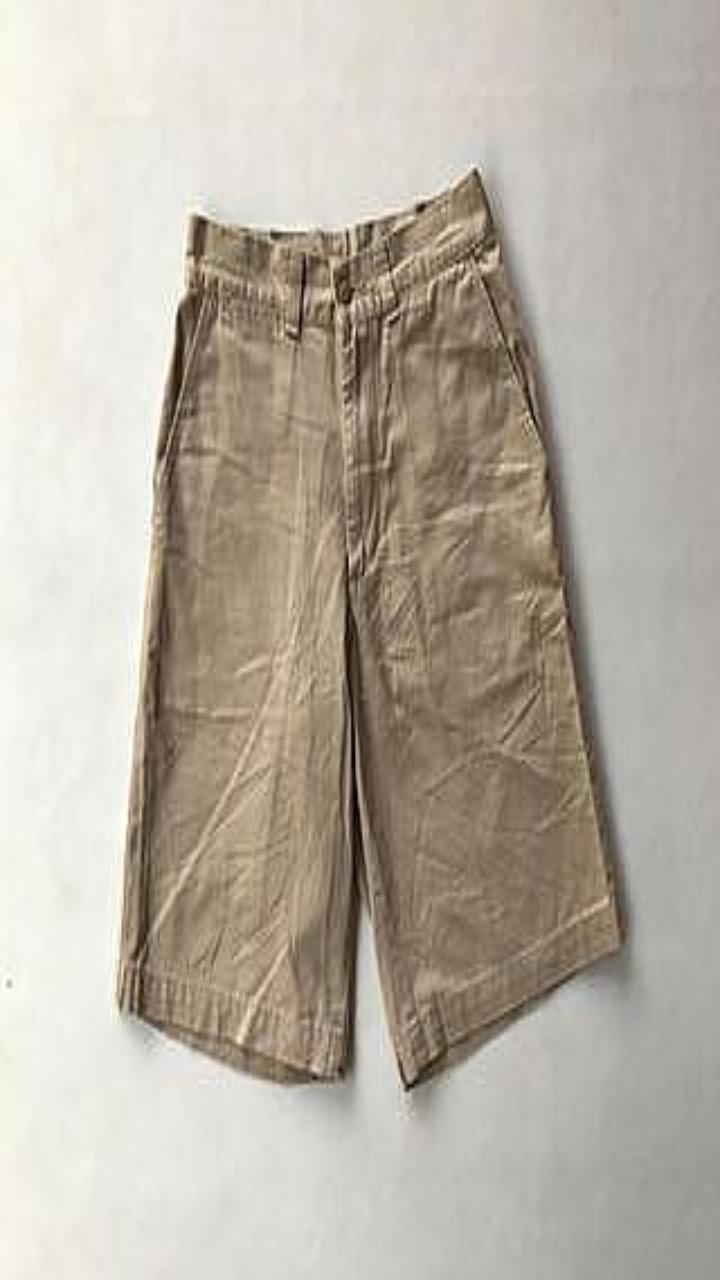Shorts: (117, 167, 621, 1088)
